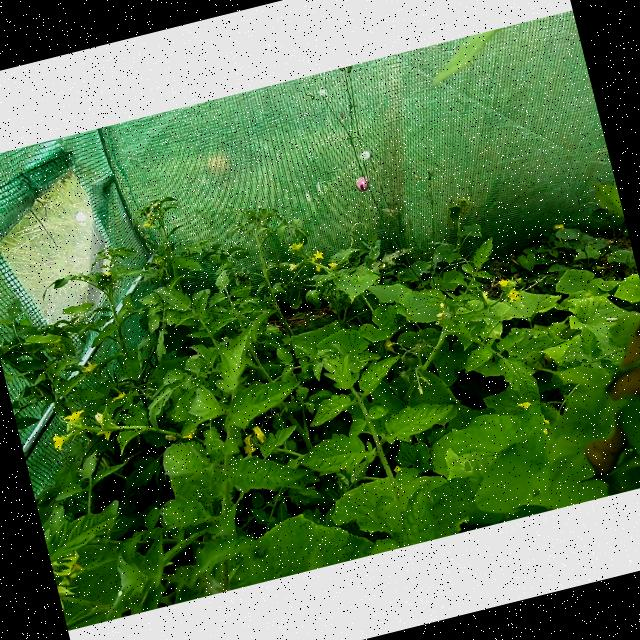Flowers: (50, 550, 87, 586), (240, 422, 270, 454), (499, 276, 521, 302), (48, 430, 71, 451), (76, 358, 100, 376), (64, 408, 85, 423), (312, 250, 325, 262)
